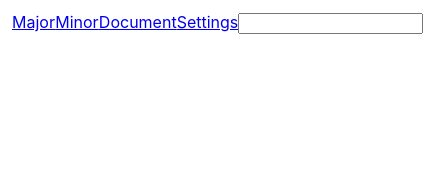
Test: panel app routes › renders page routes in place of the document
Click the link "Settings" at [207, 22], box x1=177 y1=12 x2=238 y2=32
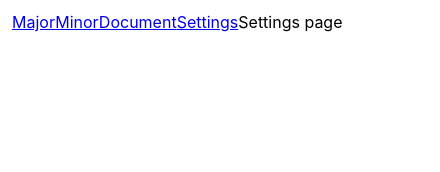
expect the text "Settings page" is shown: met, box x1=238 y1=12 x2=342 y2=32
expect the field is gone: met
